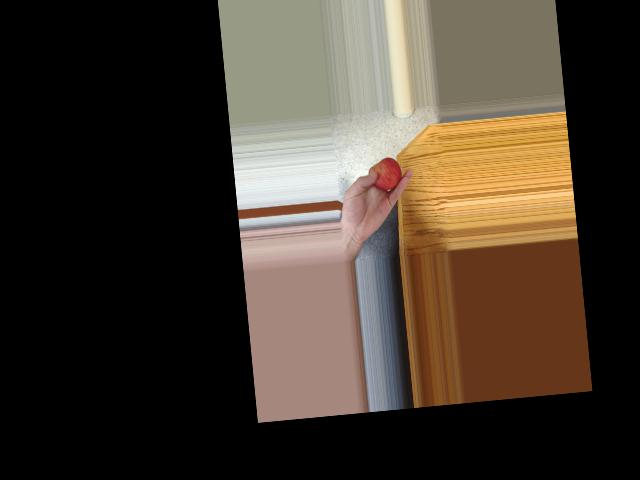apple: (365, 153, 403, 196)
